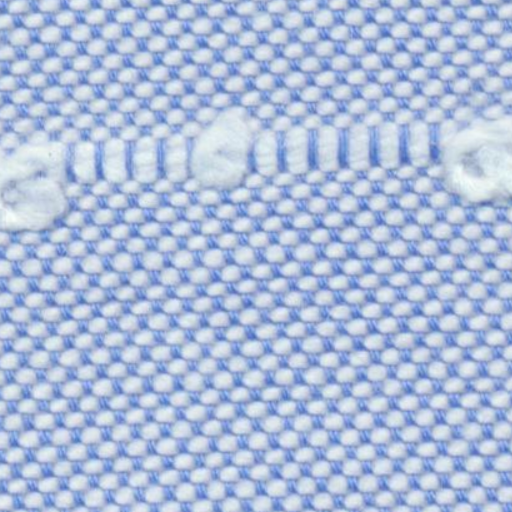DaiSha: (5, 99, 500, 231)
